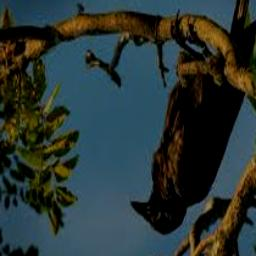Crow: (130, 0, 256, 235)
